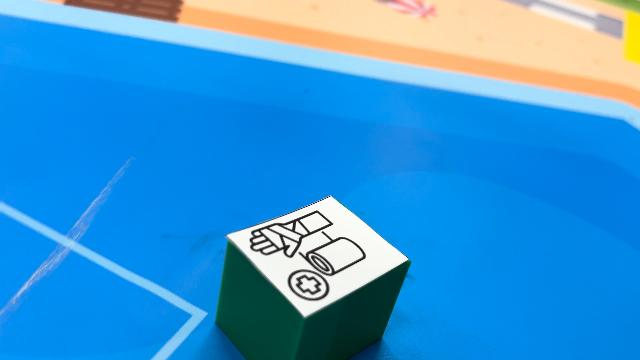bandage: (215, 194, 412, 358)
